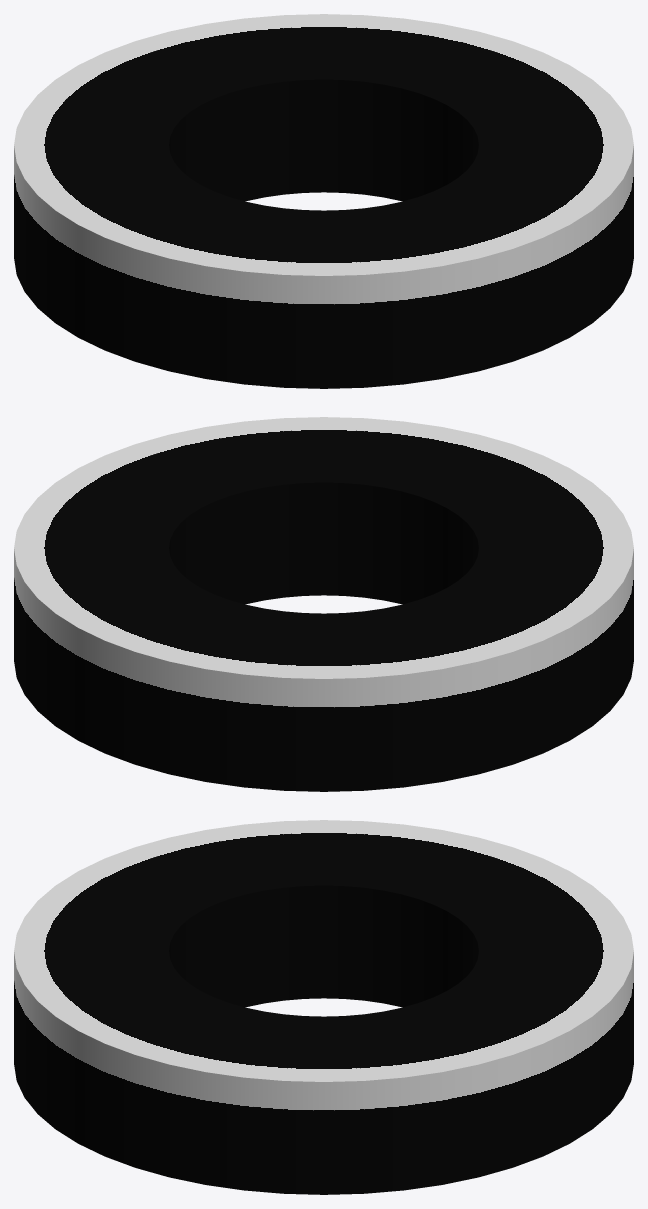
The model's file is ProductDisplayItem.fbx.
3 renders of one model, top to bottom at view 1: azimuth 30°, elevation 25°; view 2: azimuth 150°, elevation 25°; view 3: azimuth 270°, elevation 25°, orthographic.
Visible parts, largest first — view 1: ProductDisplayItem; view 2: ProductDisplayItem; view 3: ProductDisplayItem.
Part boxes in pixels (x1,y1,x2,y2): ProductDisplayItem: (14,14,633,388); ProductDisplayItem: (14,417,633,791); ProductDisplayItem: (14,820,633,1194).
Bounding box in the file's own units: 99.57 × 20 × 99.57.
